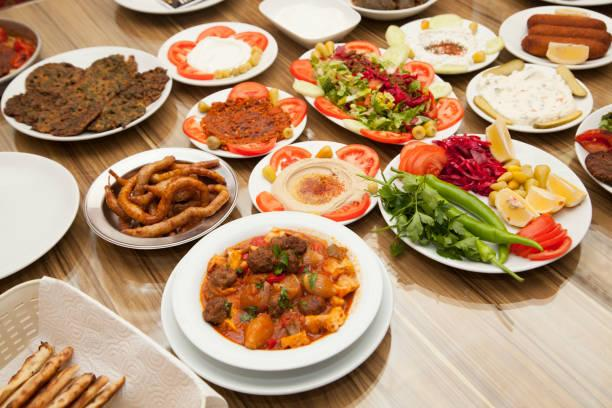Braised Crucian Carp: (164, 211, 383, 379), (377, 136, 591, 272), (293, 39, 464, 141), (82, 146, 235, 250), (1, 45, 168, 139), (248, 140, 380, 225), (466, 62, 594, 134), (182, 85, 299, 159), (157, 21, 276, 87), (500, 6, 612, 74)
